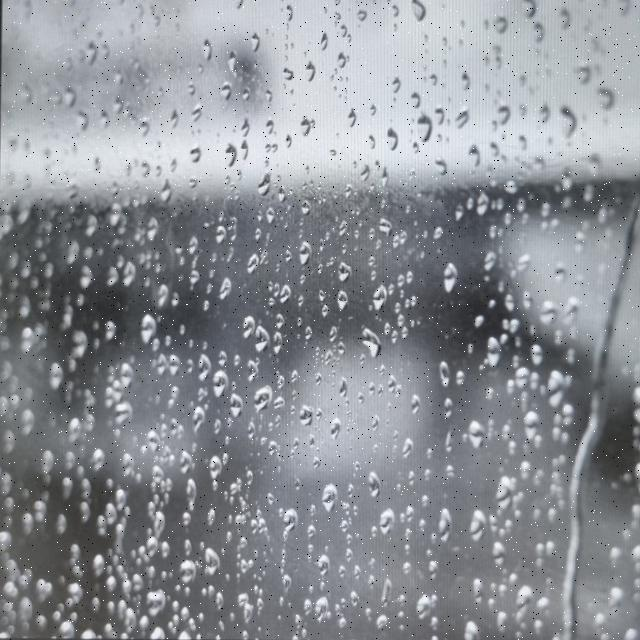raindrop: (488, 460, 528, 508), (494, 288, 542, 322), (409, 590, 446, 634), (468, 409, 502, 455), (491, 578, 540, 608), (409, 108, 446, 146), (197, 540, 239, 573), (247, 169, 284, 205), (472, 246, 511, 280), (356, 325, 392, 358), (179, 479, 211, 516), (279, 511, 308, 548), (140, 505, 177, 534), (514, 414, 547, 445), (87, 548, 118, 581), (465, 132, 496, 164), (468, 510, 501, 540), (108, 398, 140, 428), (316, 546, 349, 575), (554, 107, 580, 143), (354, 473, 386, 502), (542, 372, 576, 399), (294, 237, 324, 267), (404, 2, 432, 34), (559, 299, 586, 332), (364, 282, 400, 306), (428, 508, 458, 536), (376, 577, 404, 606), (288, 402, 315, 432), (199, 448, 235, 470), (155, 280, 184, 307), (312, 484, 338, 514), (76, 264, 102, 293), (247, 326, 277, 351), (127, 120, 157, 145), (429, 434, 456, 461), (173, 558, 203, 582), (324, 415, 352, 440), (376, 508, 400, 537), (441, 264, 465, 292), (310, 595, 331, 627), (471, 188, 499, 212), (61, 420, 87, 445), (483, 338, 507, 365), (275, 277, 297, 305), (117, 264, 141, 289), (133, 312, 158, 336), (489, 8, 512, 34), (276, 57, 297, 85), (331, 48, 355, 72), (187, 100, 210, 124), (331, 378, 357, 399), (435, 362, 461, 383), (379, 125, 400, 151), (212, 82, 235, 104), (330, 264, 352, 286), (335, 523, 355, 546), (431, 154, 454, 174), (368, 223, 392, 242), (301, 59, 318, 85), (170, 108, 187, 130), (505, 101, 521, 123), (192, 265, 206, 289), (114, 365, 132, 383), (453, 203, 471, 220), (434, 230, 448, 245)
